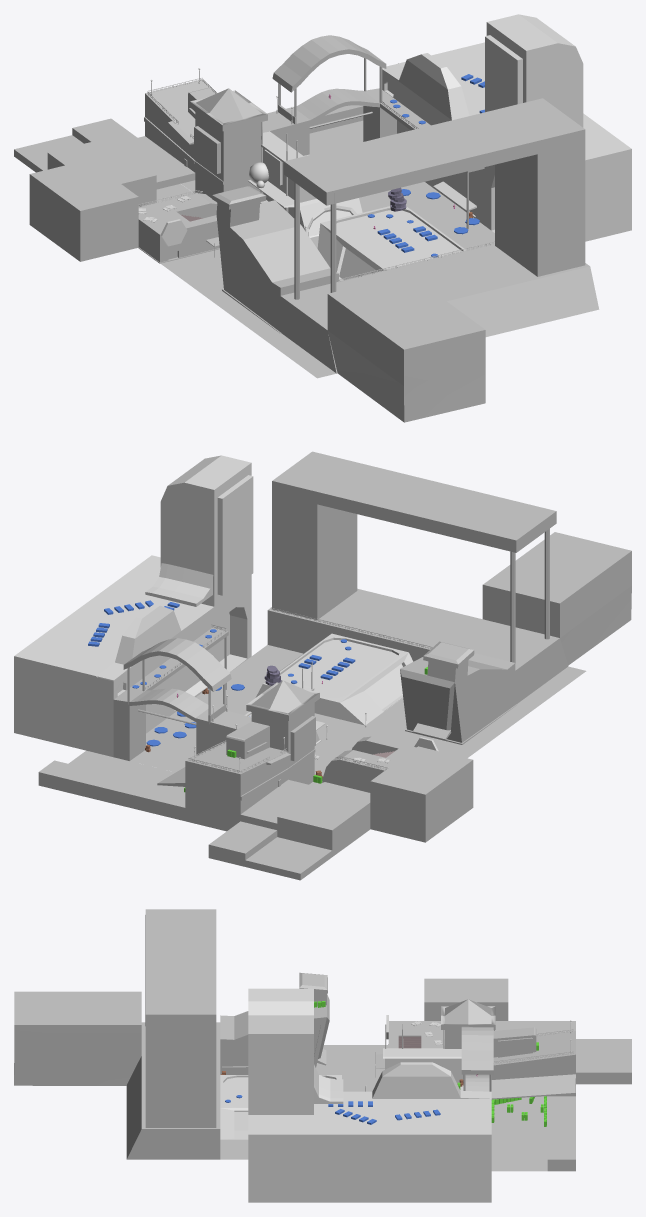
Rendered from Puzzle1.fbx.
3 views of the same model, one above another, from view 1: azimuth 30°, elevation 25°; view 2: azimuth 150°, elevation 25°; view 3: azimuth 270°, elevation 25° (orthographic). The views are drawn at different scales.
Visible parts, largest first — view 1: Cube__13_, Cube__15_, Cube__17_, Cube__12_, Cube__8_, Plane__3_, Cube__7_, Cube__11_, Cube__14_, Cube__4_, Cube__10_.001, Cube__5_ (+10 smaller); view 2: Cube__15_, Cube__13_, Cube__17_, Plane__3_, Cube__12_, Cube__8_, Cube__11_, Cube__5_, Cube__14_, Cube__7_, Cube__6_, Cube__2_ (+8 smaller); view 3: Cube__15_, Cube__13_, Cube__17_, Cube__5_, Plane__2_, Cube__12_, Plane__3_, Cube__7_, Cube__8_, Cube__6_, Cube__11_, Cube__1_ (+6 smaller).
Boxes of the visible parts, x1,y1,x2,y2 form: Cube__13_: (280,98,599,373); Cube__15_: (382,14,631,241); Cube__17_: (327,274,485,422); Cube__12_: (212,186,338,333); Cube__8_: (29,160,138,261); Plane__3_: (161,182,494,378); Cube__7_: (188,88,267,203); Cube__11_: (317,206,466,281); Cube__14_: (262,88,484,228); Cube__4_: (138,193,219,263); Cube__10_.001: (248,131,362,237); Cube__5_: (144,79,216,172); Cube__15_: (14,455,253,757); Cube__13_: (267,451,568,704); Cube__17_: (482,532,631,665); Plane__3_: (130,645,586,786); Cube__12_: (400,641,517,744); Cube__8_: (370,746,473,842); Cube__11_: (255,633,413,725); Cube__5_: (157,742,290,821); Cube__14_: (113,627,251,760); Cube__7_: (226,680,319,784); Cube__6_: (38,760,239,831); Cube__2_: (277,782,370,856); Cube__15_: (248,988,491,1202); Cube__13_: (126,909,220,1159); Cube__17_: (14,991,141,1085); Cube__5_: (491,1031,575,1099); Plane__2_: (491,1096,547,1171); Cube__12_: (220,972,329,1074); Plane__3_: (220,1045,387,1159); Cube__7_: (441,999,536,1057); Cube__8_: (424,978,508,1020); Cube__6_: (547,1096,575,1171); Cube__11_: (220,1075,341,1139); Cube__1_: (576,1056,631,1084).
Size of the model in its own units: 22935 by 10949 by 33025.
